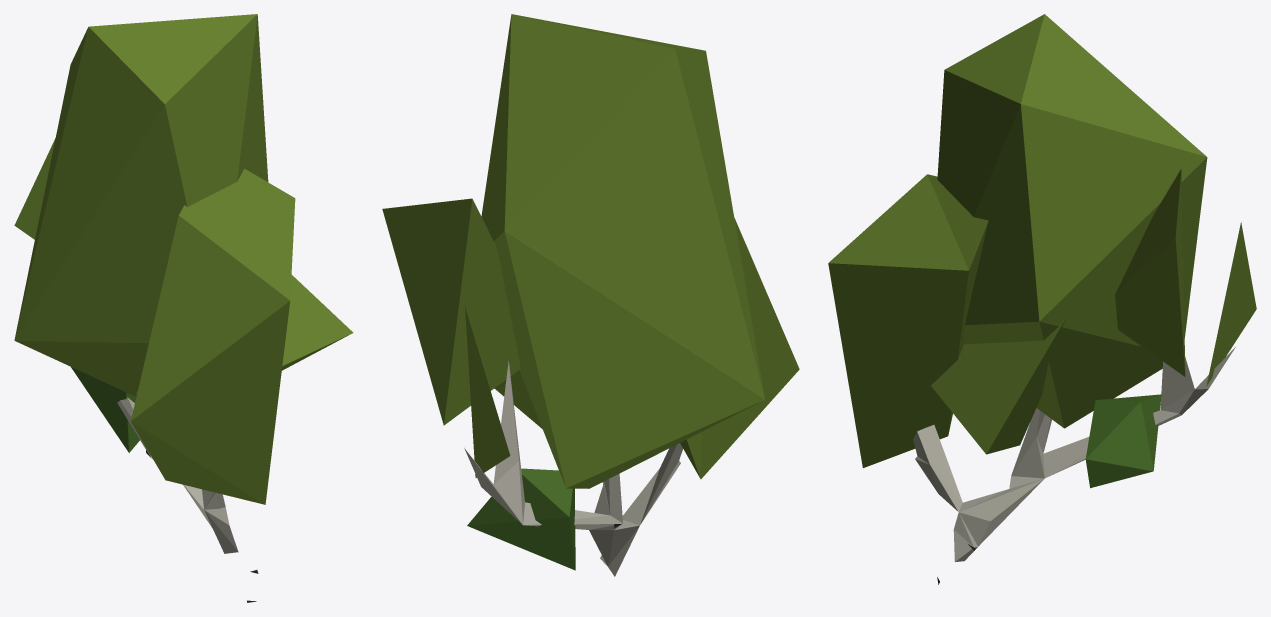
File: birch_a_lod1.glb
3 views of the same model, side by side, from view 1: azimuth 30°, elevation 25°; view 2: azimuth 150°, elevation 25°; view 3: azimuth 270°, elevation 25° (orthographic). The views are drawn at different scales.
Visible parts, largest first — view 1: birch_a_lod1; view 2: birch_a_lod1; view 3: birch_a_lod1.
Part boxes in pixels (x1,y1,x2,y2): birch_a_lod1: (14, 14, 353, 602); birch_a_lod1: (382, 14, 799, 576); birch_a_lod1: (828, 14, 1256, 584).
Size of the model in its own units: 1.85 by 3.16 by 2.28.
